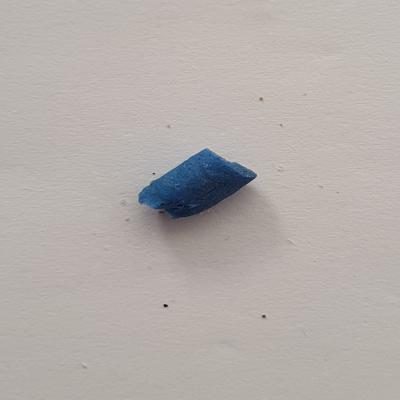plastic: (135, 140, 260, 234)
